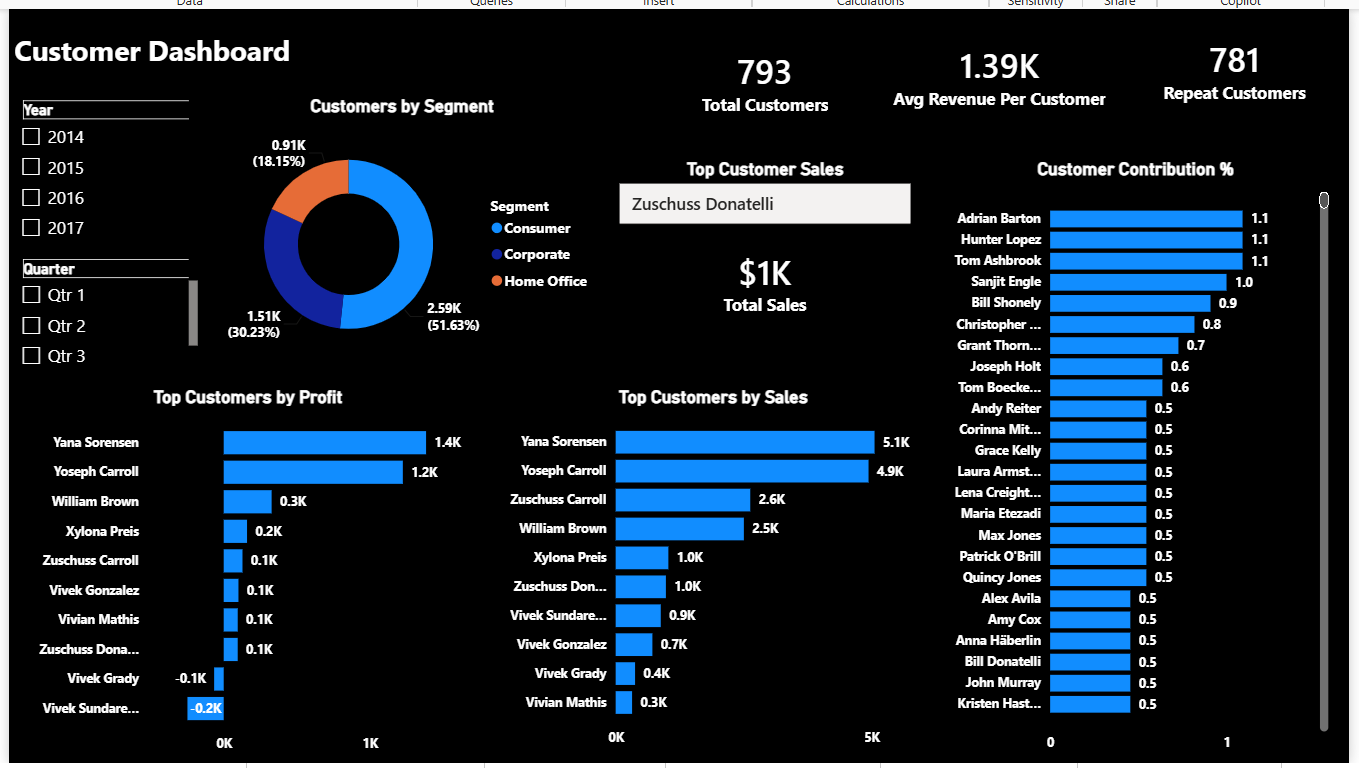

Layout of this report page (visuals, bound fields, positions):
{"tool":"powerbi","page":{"name":"4. Customer Dashboard","canvas":[1280,720],"ordinal":3},"visuals":[{"type":"cardVisual","fields":{"Data":["KPI Metrics.Total Customers"]},"box":[630,25,185,87.5],"z":0},{"type":"cardVisual","fields":{"Data":["KPI Metrics.Repeat Customers"]},"box":[1077.5,16.2,187.5,85],"z":1000},{"type":"cardVisual","fields":{"Data":["KPI Metrics.Avg Revenue Per Customer"]},"box":[815,16.2,262.5,96.2],"z":2000},{"type":"cardVisual","title":"Top Customer Sales","fields":{"Rows":["Sample - Superstore.Customer Name"],"Data":["KPI Metrics.Total Sales"]},"box":[557.5,143.8,328.8,178.8],"z":3000},{"type":"textbox","box":[0,16.2,300,52.5],"z":4000},{"type":"donutChart","title":"Customers by Segment","fields":{"Category":["Sample - Superstore.Segment"],"Y":["CountNonNull(Sample - Superstore.Customer Name)"]},"box":[185,82.5,382.5,266.2],"z":5000},{"type":"clusteredBarChart","title":"Top Customers by Sales","fields":{"Category":["Sample - Superstore.Customer Name"],"Y":["Sum(Sample - Superstore.Sales)"]},"box":[460,360,426.2,353.8],"z":6000},{"type":"clusteredBarChart","title":"Top Customers by Profit","fields":{"Category":["Sample - Superstore.Customer Name"],"Y":["Sum(Sample - Superstore.Profit)"]},"box":[12.5,360,432.5,360],"z":7000},{"type":"clusteredBarChart","title":"Customer Contribution %","fields":{"Y":["KPI Metrics.Customer Contribution %"],"Category":["Sample - Superstore.Customer Name"]},"box":[886.2,143.8,378.8,576.2],"z":8000},{"type":"slicer","fields":{"Values":["Sample - Superstore.Order Date.Variation.Date Hierarchy.Year"]},"box":[0,82.5,185,151.2],"z":9000},{"type":"slicer","fields":{"Values":["Sample - Superstore.Order Date.Variation.Date Hierarchy.Quarter"]},"box":[0,233.8,185,115],"z":10000}]}

Visuals, with their boxes on the page's 1280x720 design canvas (x1, y1, x2, y2). These are canvas units, not pixel positions in the 1359x768 screenshot, which may show the page scaled, cropped or inside an application window:
cardVisual - KPI Metrics.Total Customers: BBox(630, 25, 815, 112)
cardVisual - KPI Metrics.Repeat Customers: BBox(1078, 16, 1265, 101)
cardVisual - KPI Metrics.Avg Revenue Per Customer: BBox(815, 16, 1078, 112)
"Top Customer Sales" cardVisual: BBox(558, 144, 886, 323)
textbox: BBox(0, 16, 300, 69)
"Customers by Segment" donutChart: BBox(185, 82, 568, 349)
"Top Customers by Sales" clusteredBarChart: BBox(460, 360, 886, 714)
"Top Customers by Profit" clusteredBarChart: BBox(12, 360, 445, 720)
"Customer Contribution %" clusteredBarChart: BBox(886, 144, 1265, 720)
slicer - Sample - Superstore.Order Date.Variation.Date Hierarchy.Year: BBox(0, 82, 185, 234)
slicer - Sample - Superstore.Order Date.Variation.Date Hierarchy.Quarter: BBox(0, 234, 185, 349)
